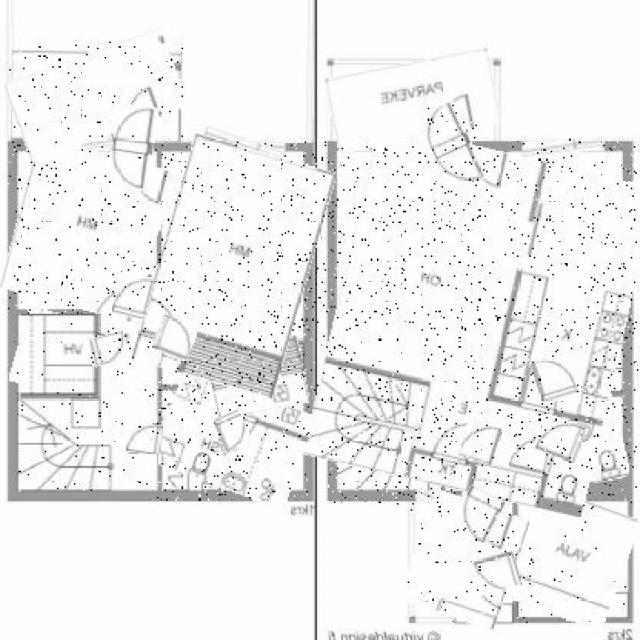door: (424, 104, 478, 190), (111, 105, 155, 189), (454, 488, 501, 542), (536, 417, 584, 460), (534, 355, 575, 400), (474, 554, 520, 594), (114, 272, 154, 317), (154, 317, 197, 358), (462, 422, 500, 463), (217, 411, 249, 452), (89, 334, 129, 364), (126, 423, 163, 454)
window: (203, 134, 286, 158), (35, 135, 114, 157), (523, 138, 603, 156), (343, 140, 429, 152), (417, 489, 438, 503)
zone: (320, 138, 638, 504), (144, 142, 322, 390), (12, 0, 314, 142), (8, 144, 164, 316), (18, 314, 158, 492), (9, 42, 183, 149), (157, 380, 309, 500), (511, 492, 634, 625), (328, 56, 498, 146), (408, 495, 522, 623), (209, 340, 306, 417), (14, 311, 97, 397), (576, 396, 626, 482), (446, 464, 503, 490)
